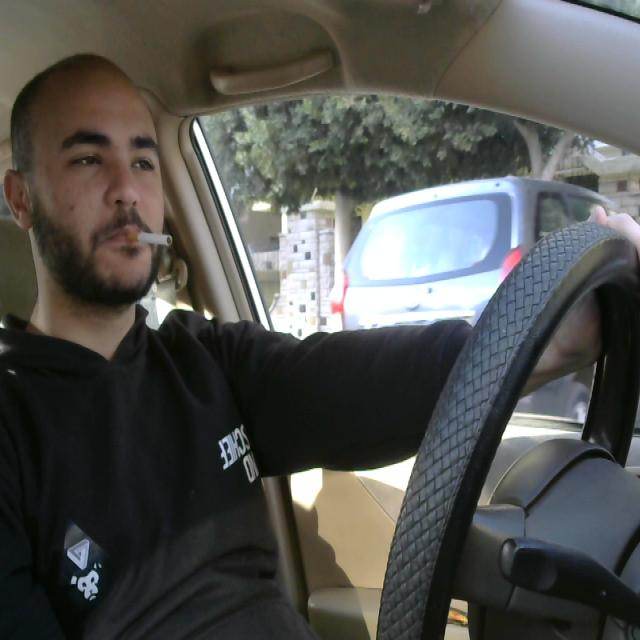smoking: (119, 214, 180, 255)
